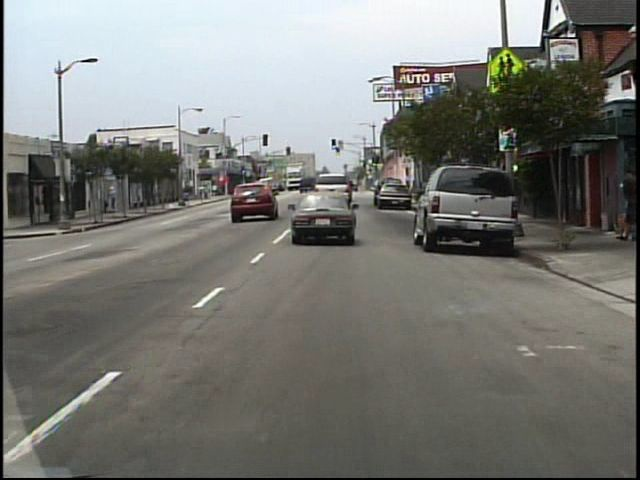person: (615, 169, 638, 243), (111, 185, 123, 214)
